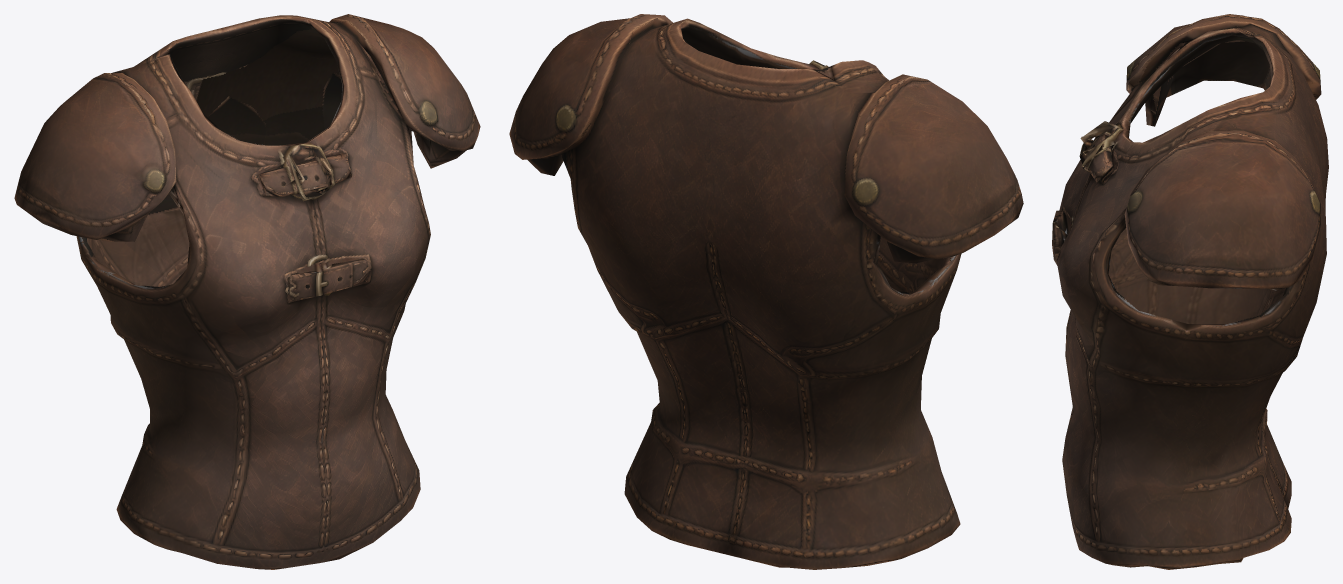
File: Prop_Armor_Leather.fbx
The picture shows the model from 3 angles, left to right: view 1: azimuth 30°, elevation 25°; view 2: azimuth 150°, elevation 25°; view 3: azimuth 270°, elevation 25°; orthographic projection. The views are drawn at different scales.
Parts seen in each view (by area): view 1: texture_mapping; view 2: texture_mapping; view 3: texture_mapping.
Boxes of the visible parts, x1,y1,x2,y2 form: texture_mapping: [14, 14, 480, 569]; texture_mapping: [509, 14, 1023, 569]; texture_mapping: [1052, 14, 1328, 569].
Bounding box in the file's own units: 0.9893 × 0.5393 × 1.
1 material, 1 textured.
